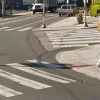crosswalk: (0, 59, 76, 96), (43, 30, 100, 47), (0, 26, 32, 32)
